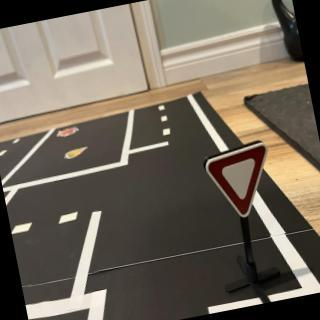sign_yield: (202, 140, 281, 224)
